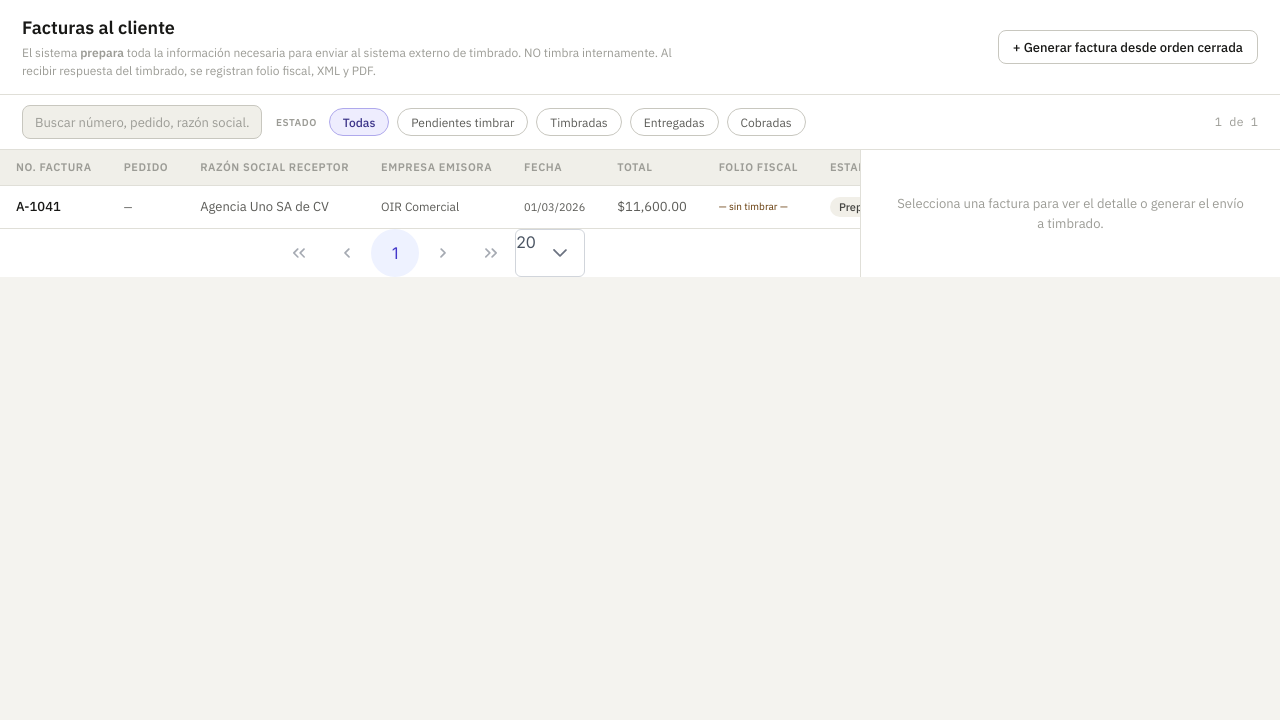
Scenario: FacturasClientePage › en 'preparada' ofrece enviar a timbrado, pero NO registrar timbrado
Click the text "A-1041".
click(54, 207)  # box [0, 185, 108, 228]
(page scrolled)
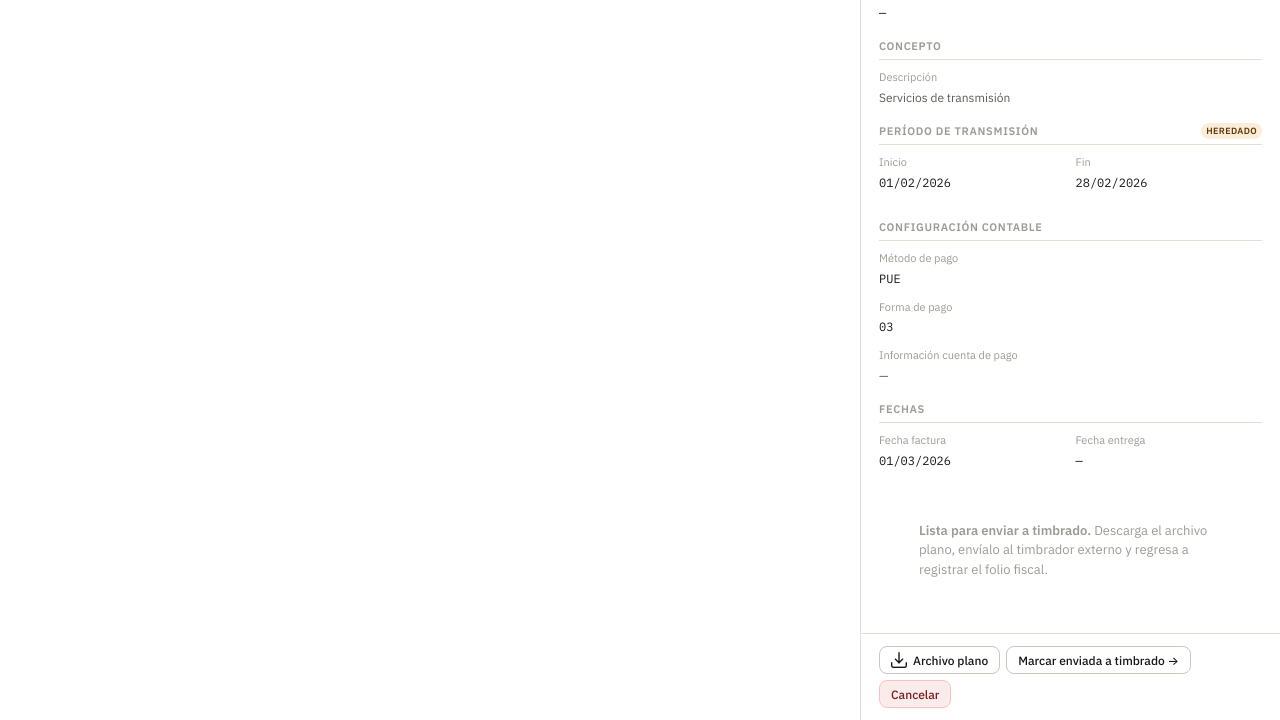
Now the button "Marcar enviada a timbrado →" is shown, box [1006, 646, 1191, 674]
